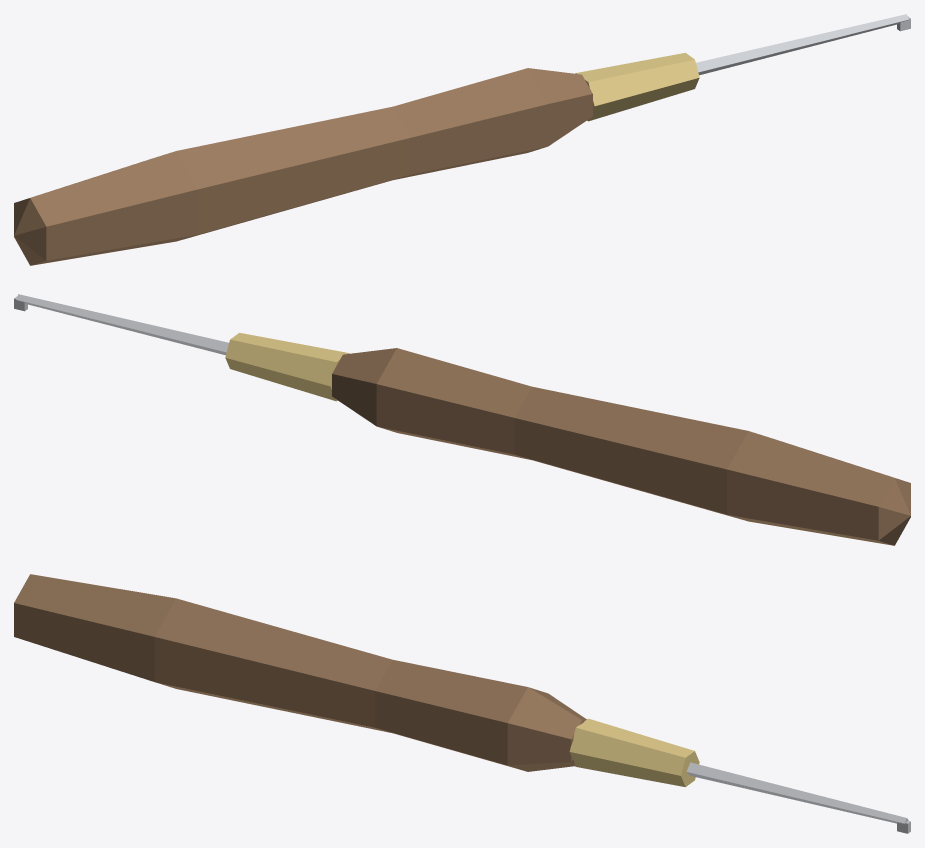
Rendered from prop-tambour-hook.fbx.
The picture shows the model from 3 angles, top to bottom: view 1: azimuth 30°, elevation 25°; view 2: azimuth 150°, elevation 25°; view 3: azimuth 330°, elevation 25°; orthographic projection.
Visible parts, largest first — view 1: prop-tambour-hook; view 2: prop-tambour-hook; view 3: prop-tambour-hook.
Part boxes in pixels (x1,y1,x2,y2): prop-tambour-hook: (14, 14, 910, 265); prop-tambour-hook: (14, 294, 910, 545); prop-tambour-hook: (14, 574, 910, 833).
Bounding box in the file's own units: 16.55 × 1.6 × 1.39.
